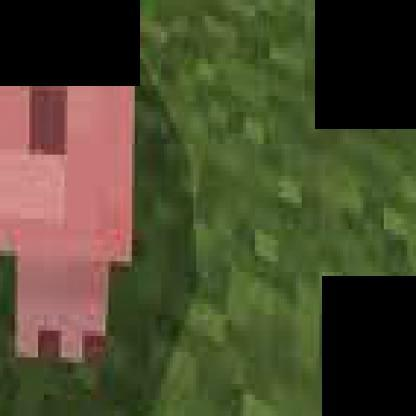minecraft-pigs: (0, 0, 194, 401)
